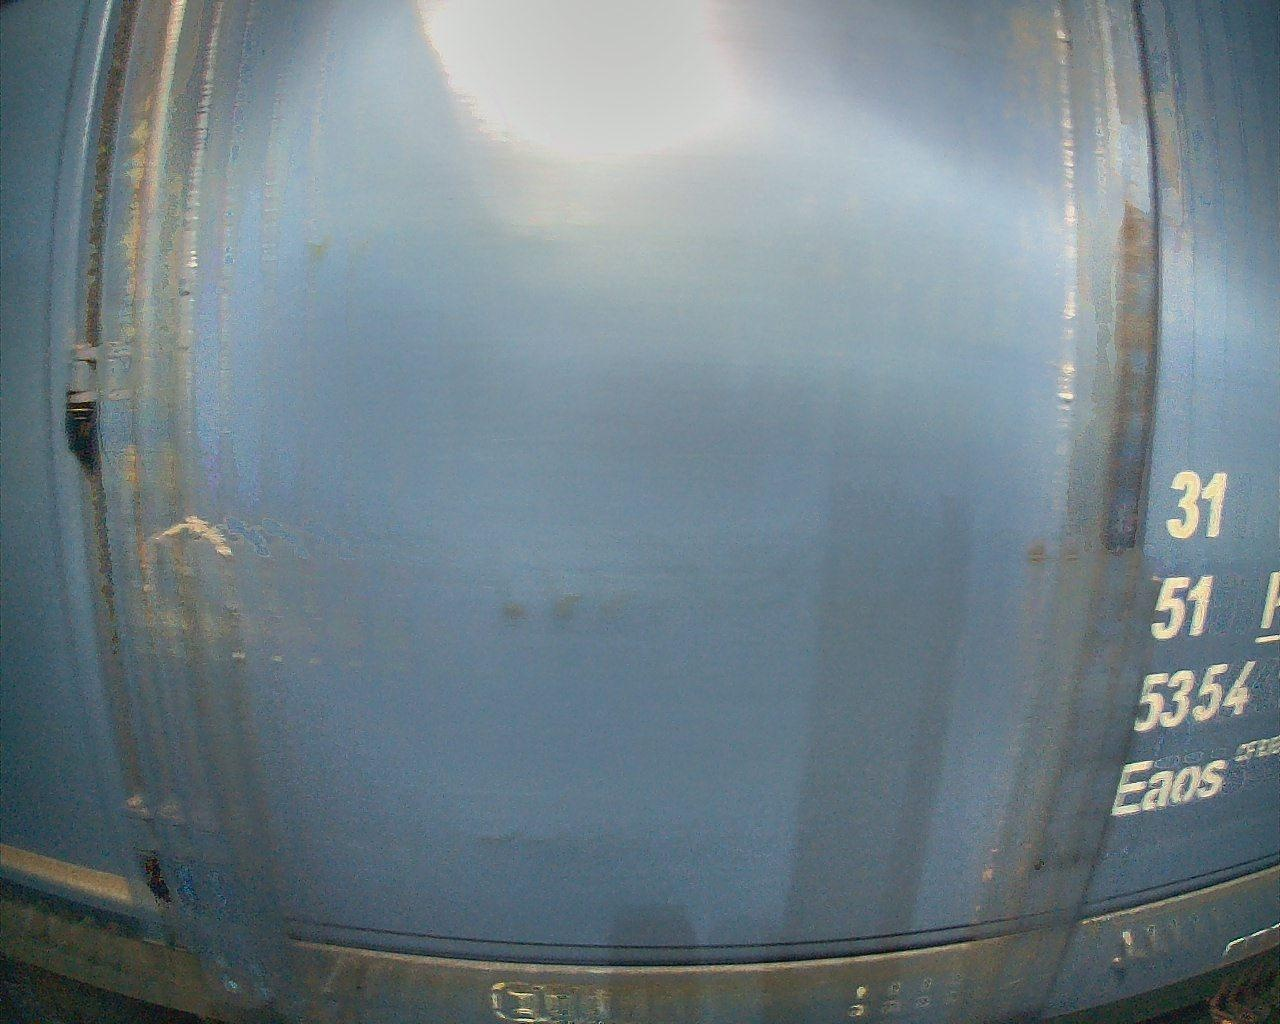UIC: (1106, 457, 1280, 825)
